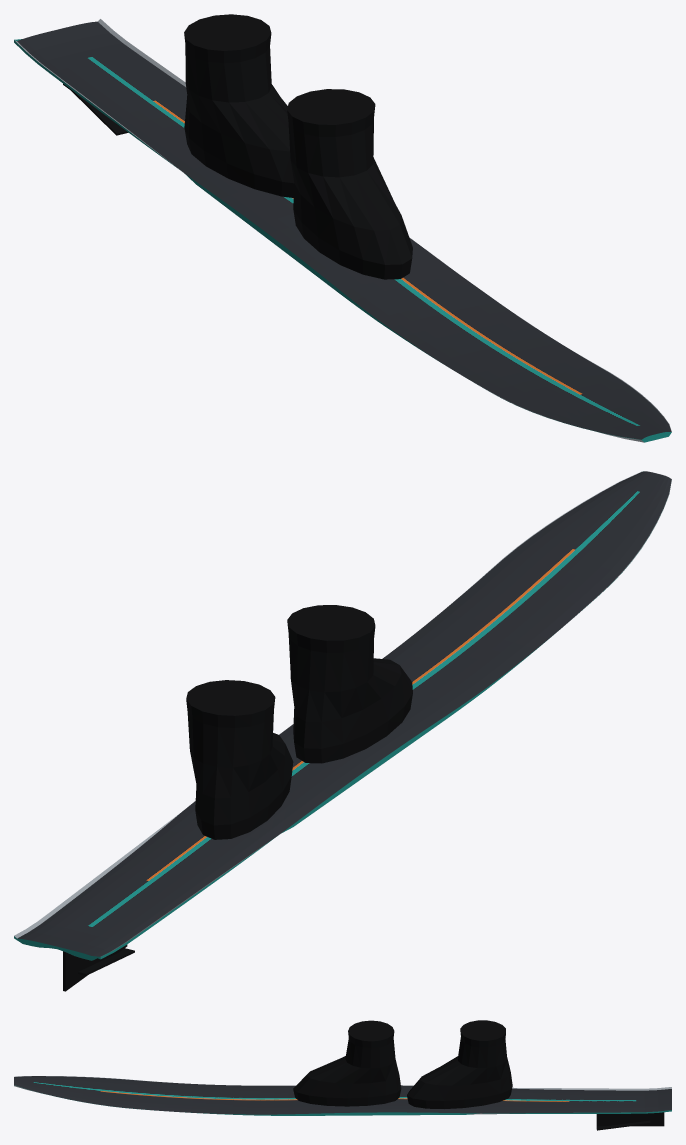
The model's file is FelderpussSki.fbx.
3 renders of one model, top to bottom at view 1: azimuth 30°, elevation 25°; view 2: azimuth 150°, elevation 25°; view 3: azimuth 270°, elevation 25°, orthographic. The views are drawn at different scales.
Parts seen in each view (by area): view 1: Ski_LOD0, Bindings_LOD0; view 2: Ski_LOD0, Bindings_LOD0; view 3: Ski_LOD0, Bindings_LOD0.
Boxes of the visible parts, x1,y1,x2,y2 form: Ski_LOD0: (14,19,671,442); Bindings_LOD0: (63,14,412,279); Ski_LOD0: (14,471,671,960); Bindings_LOD0: (63,605,412,991); Ski_LOD0: (14,1076,671,1115); Bindings_LOD0: (293,1020,664,1130).
Size of what is drawn, in the model's own units: 0.177 by 0.2772 by 1.7.
2 materials, 1 textured.
